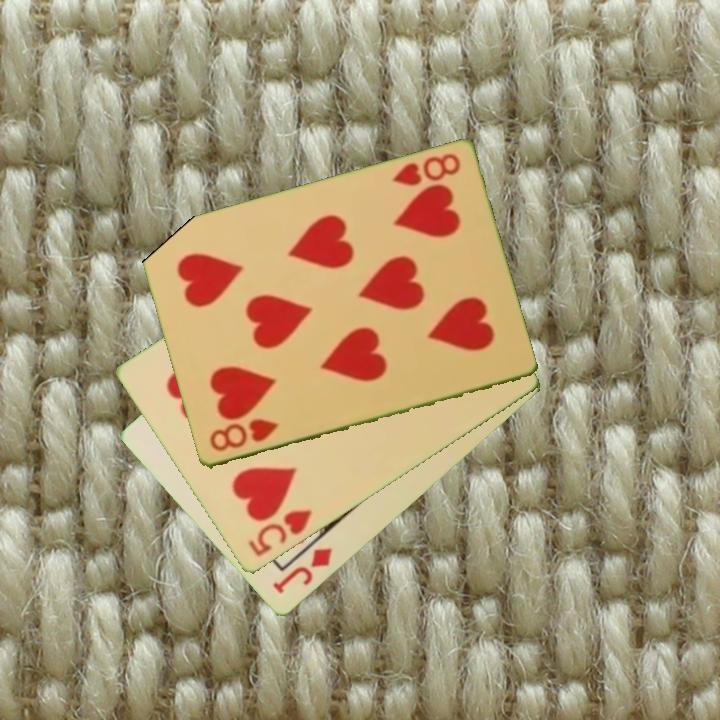5h: (245, 506, 315, 560)
8h: (205, 415, 281, 455), (389, 150, 463, 190)
Jd: (269, 544, 336, 598)
